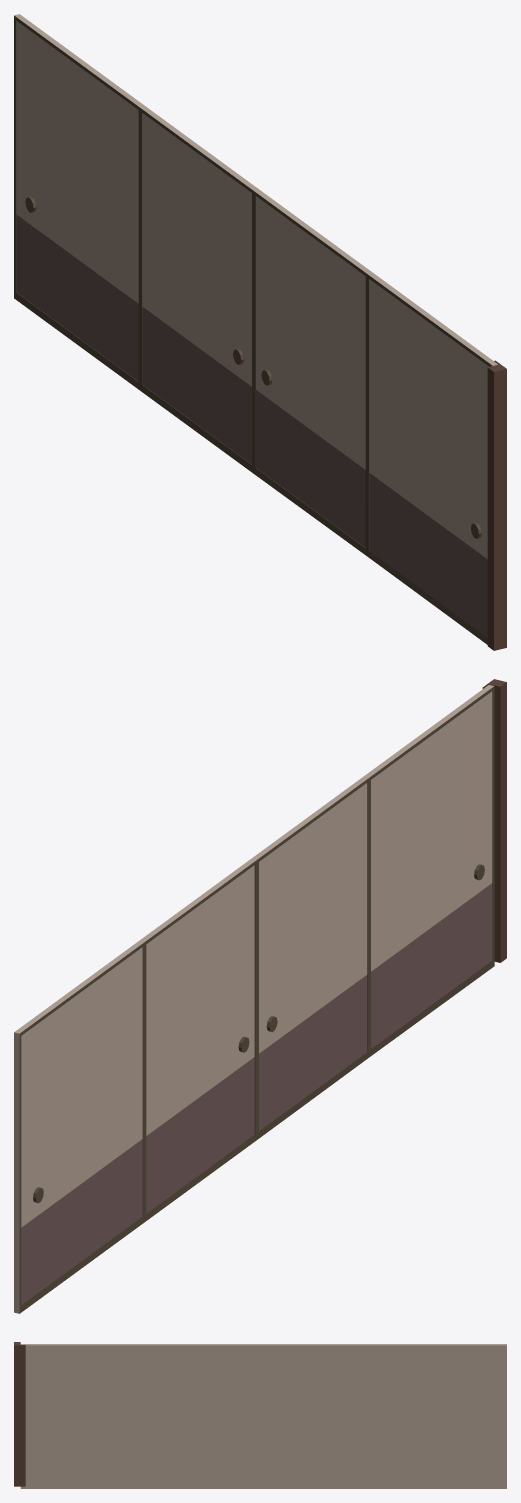
Rendered from set_1_wall_R.glb.
The picture shows the model from 3 angles, top to bottom: view 1: azimuth 30°, elevation 25°; view 2: azimuth 150°, elevation 25°; view 3: azimuth 270°, elevation 25°; orthographic projection. The views are drawn at different scales.
Parts seen in each view (by area): view 1: RightWall; view 2: RightWall; view 3: RightWall.
Part boxes in pixels (x1,y1,x2,y2): RightWall: [14, 14, 506, 650]; RightWall: [14, 679, 506, 1313]; RightWall: [14, 1342, 506, 1488].
Size of the model in its own units: 0.1674 by 3.51 by 10.89.
